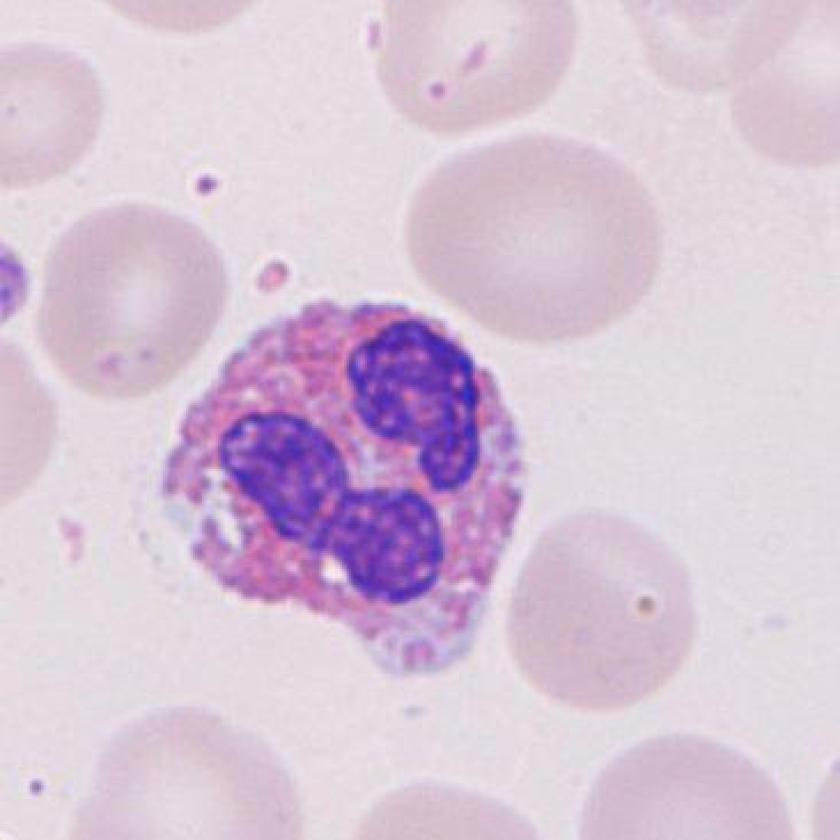eosinophil: (148, 283, 549, 693)
